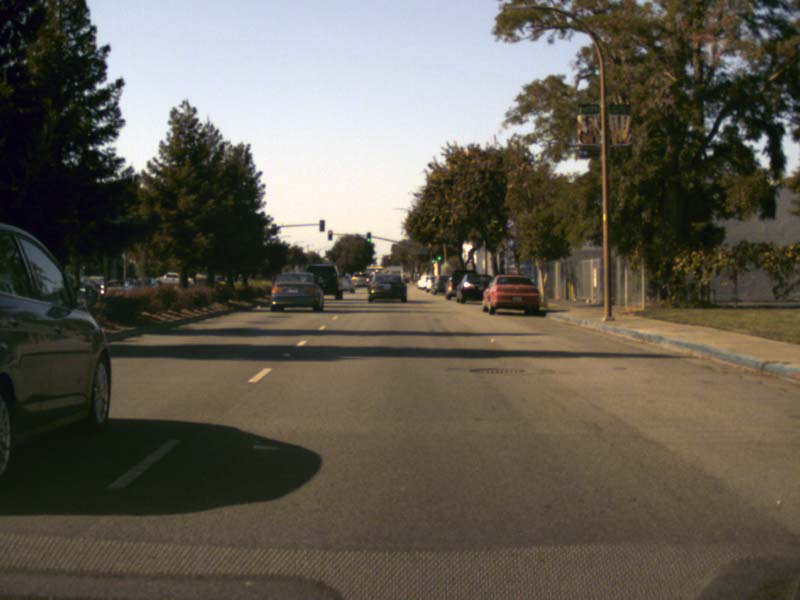Green: (437, 247, 443, 262), (366, 231, 371, 244), (430, 254, 435, 263)
Red: (327, 230, 332, 240)
